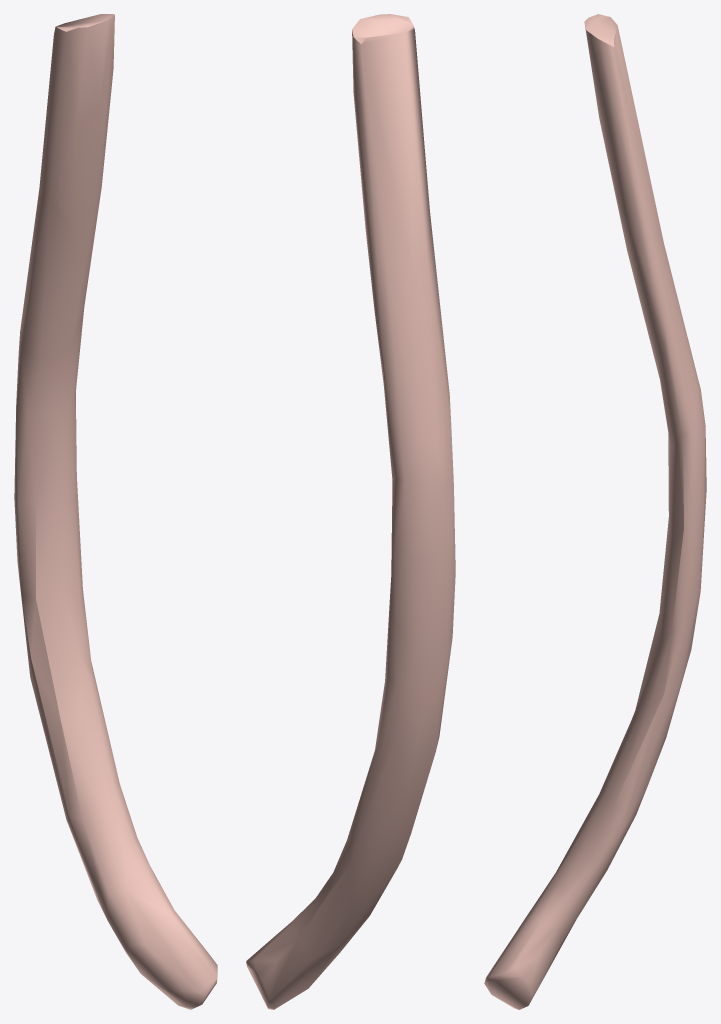
Rendered from qizilongach.glb.
3 views of the same model, side by side, from view 1: azimuth 30°, elevation 25°; view 2: azimuth 210°, elevation 25°; view 3: azimuth 270°, elevation 25° (orthographic). The views are drawn at different scales.
Visible parts, largest first — view 1: qizilongach; view 2: qizilongach; view 3: qizilongach.
Part boxes in pixels (x1,y1,x2,y2): qizilongach: (14, 14, 217, 1009); qizilongach: (246, 14, 455, 1009); qizilongach: (484, 14, 706, 1009).
Size of the model in its own units: 0.0322 by 0.2744 by 0.0579.
